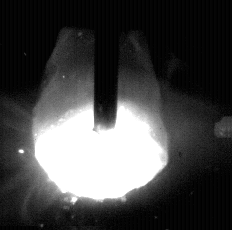arame: (95, 0, 118, 132)
poca: (33, 0, 169, 230)
